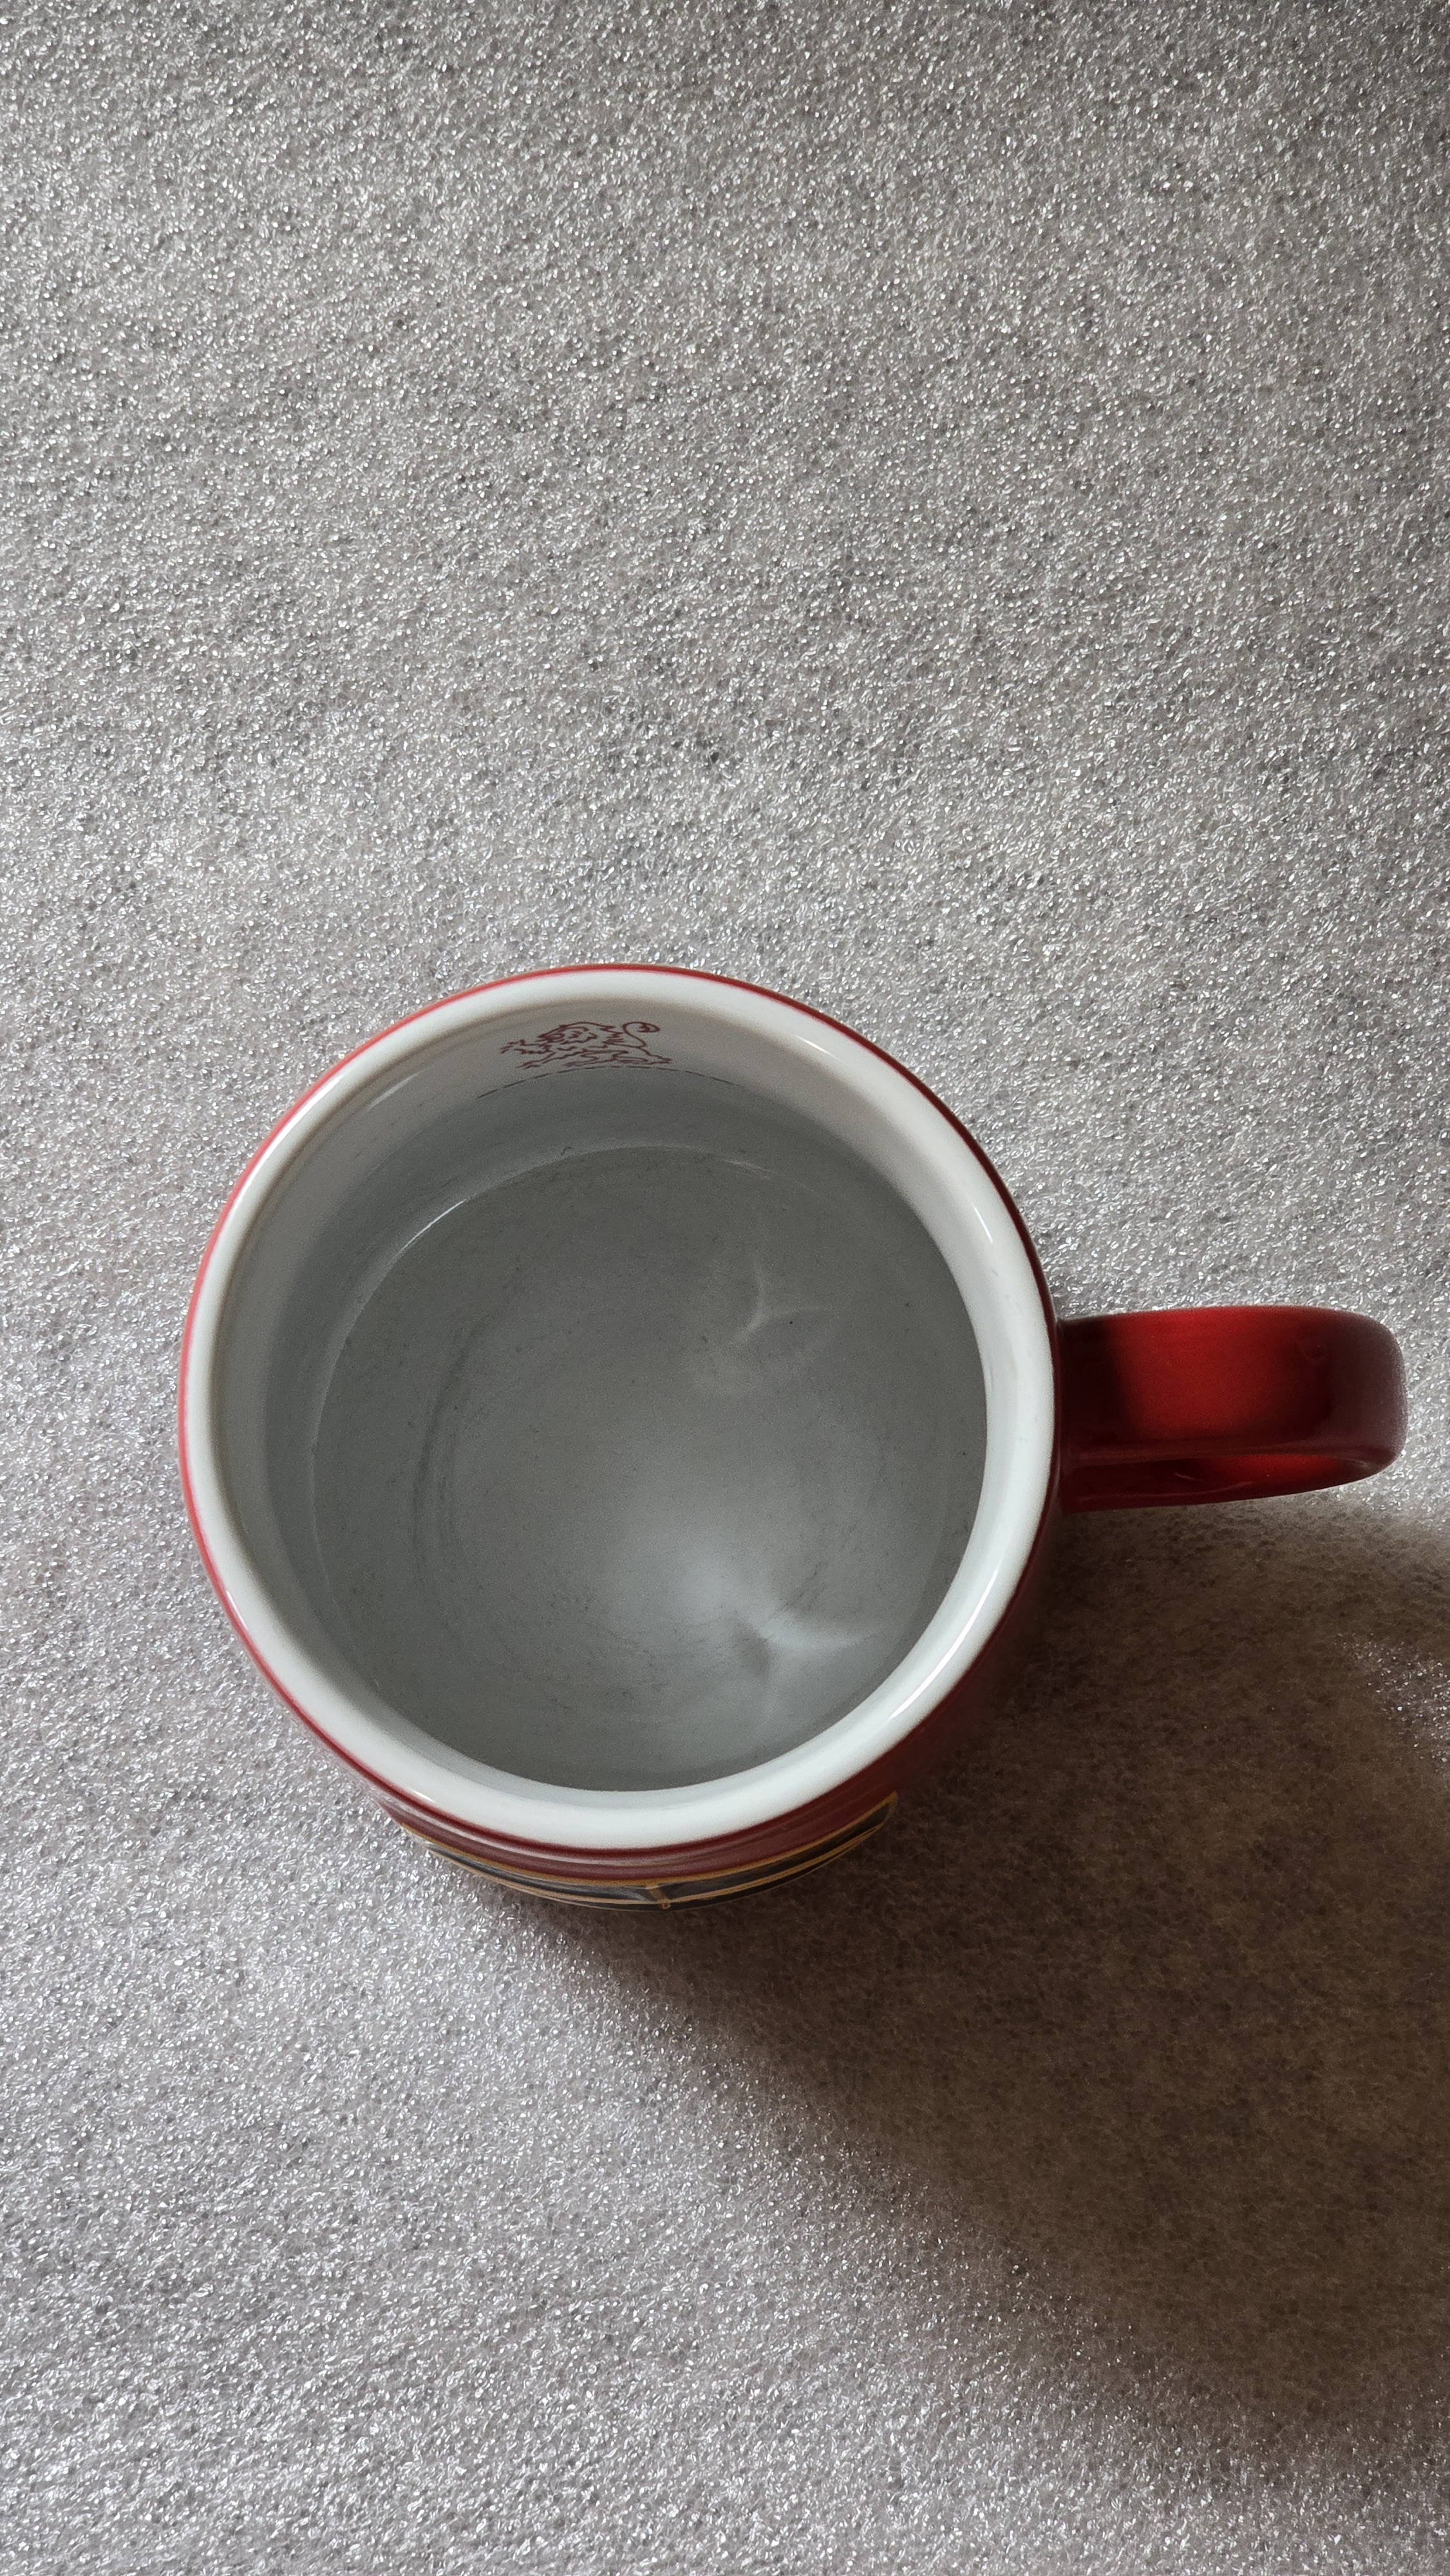mug: (157, 941, 1429, 1944)
